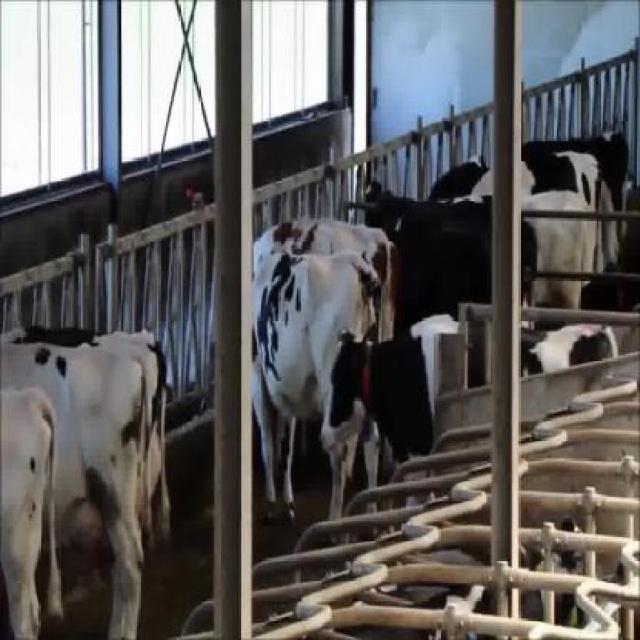Cow: (319, 312, 623, 478), (0, 339, 152, 638), (251, 248, 380, 543), (363, 177, 539, 338), (0, 384, 65, 638)
